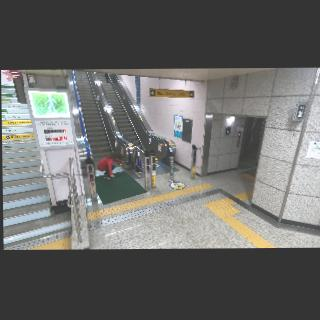anomaly: (95, 153, 126, 182)
